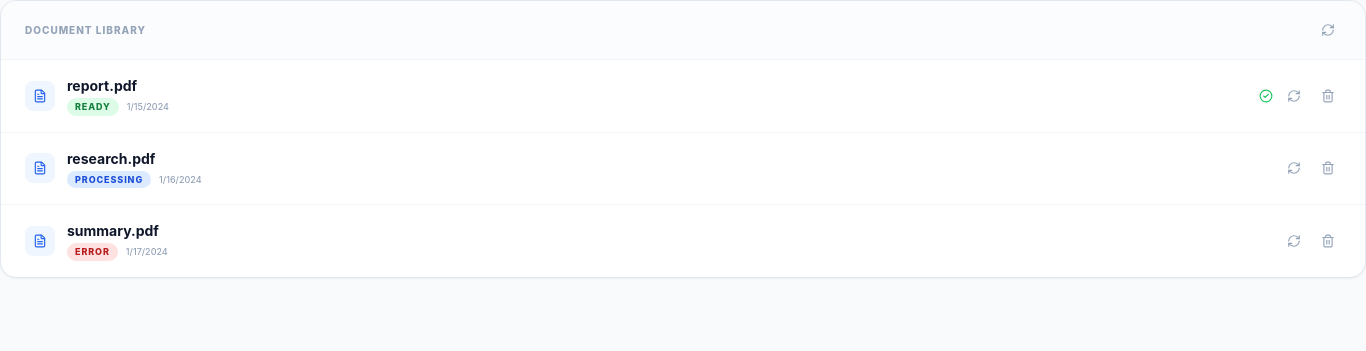
Test: DocumentManager › shows error banner when delete fails
The width and height of the screenshot is (1366, 351).
Check: the text "report.pdf" is shown, box [67,77,137,94]
Click the button named "delete" at [1328, 96], box [1315,83,1341,109]
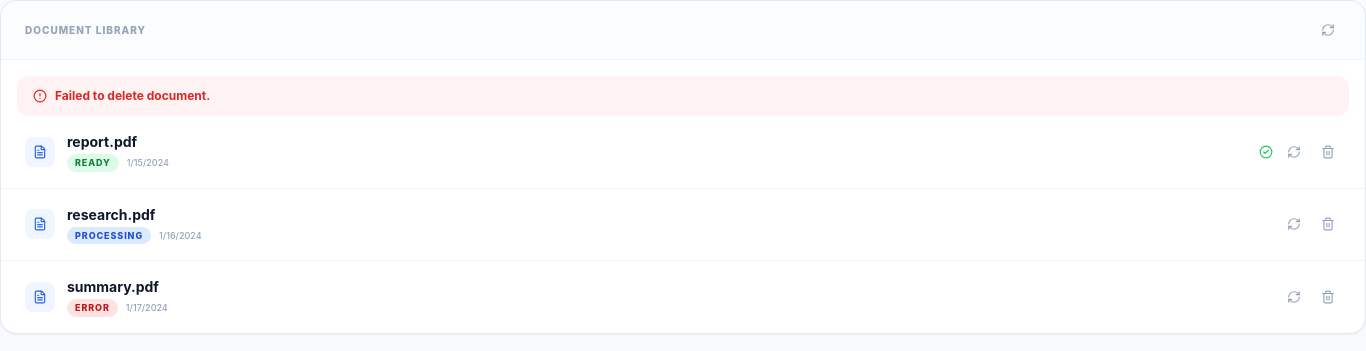
Check: the text "Failed to delete document." is shown, box [55,88,210,104]
